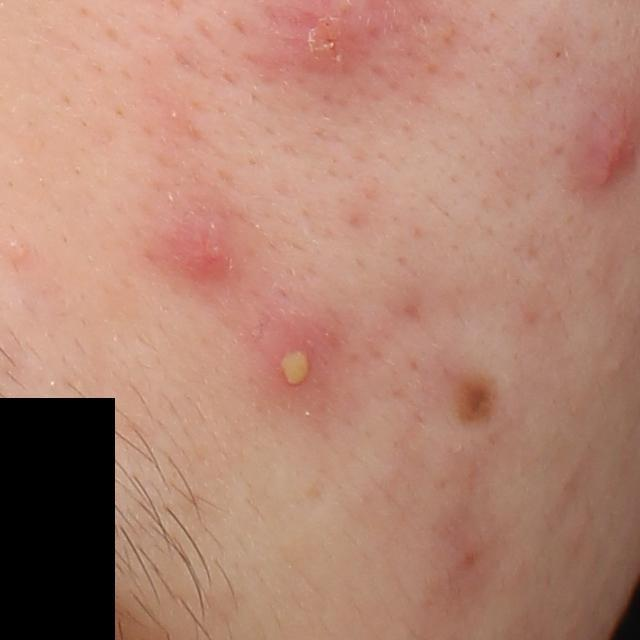nevus: (451, 377, 498, 428)
papule: (566, 80, 640, 202), (157, 200, 263, 285)
pustule: (246, 310, 333, 413)
